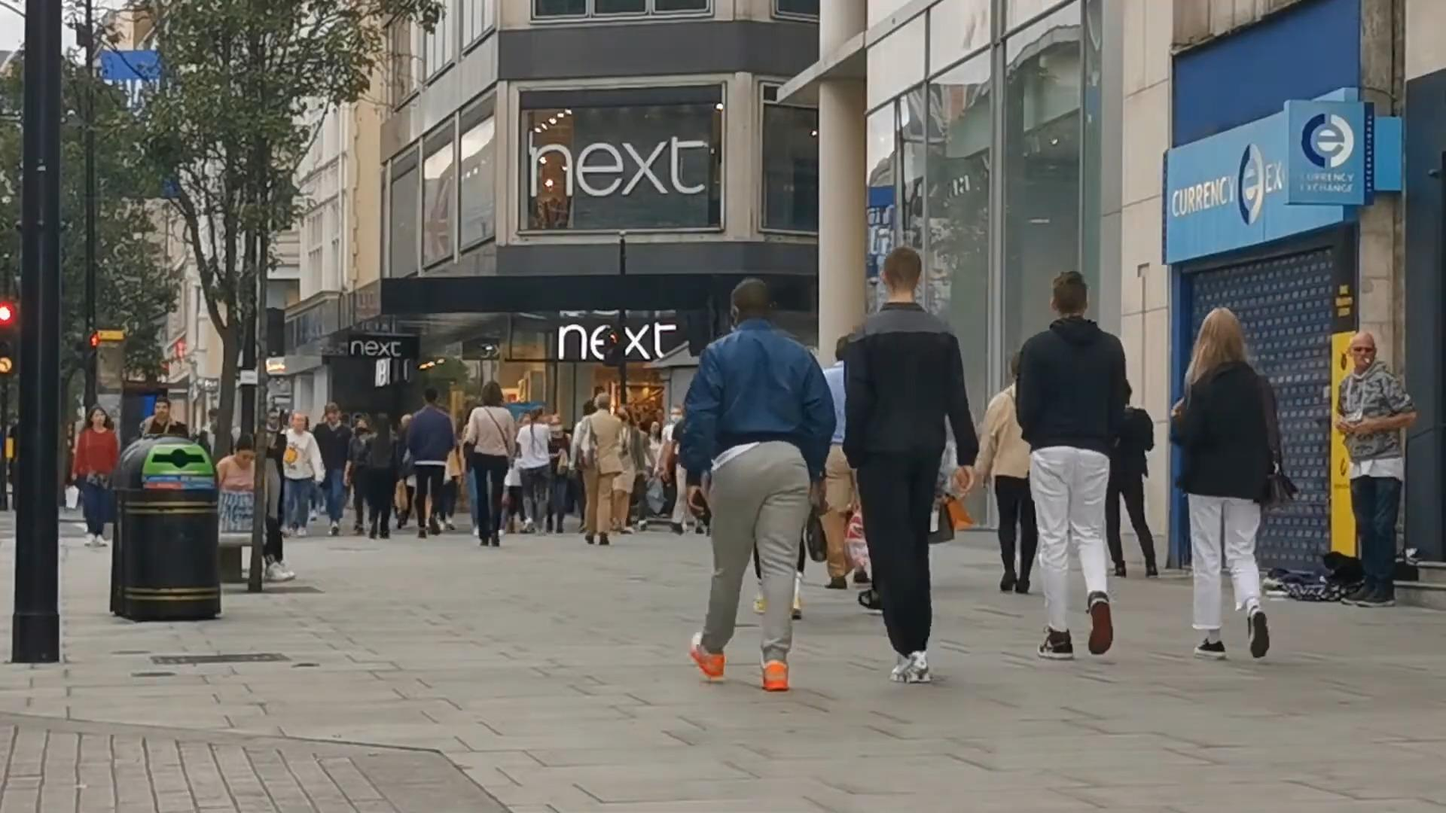no-helmet: (1195, 306, 1246, 359), (879, 245, 922, 298), (730, 277, 770, 332), (1052, 270, 1089, 317), (1350, 330, 1377, 370), (236, 433, 256, 466), (481, 381, 504, 408), (84, 404, 110, 427), (154, 397, 171, 419), (594, 393, 610, 411)
